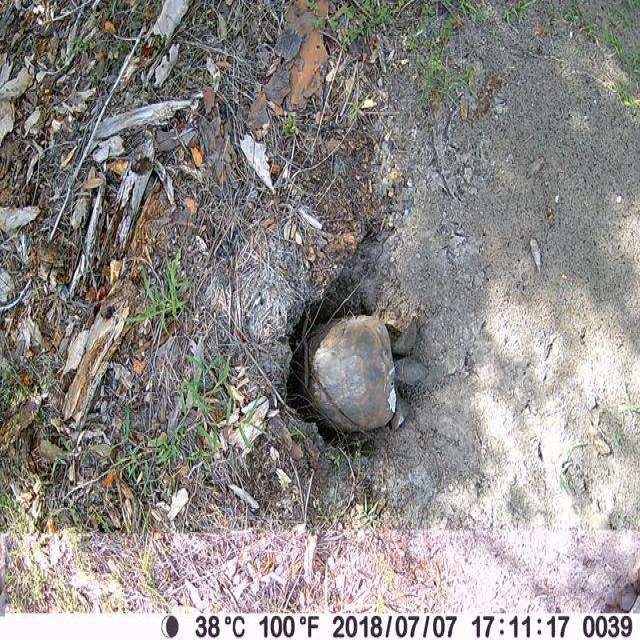tortoise: (284, 306, 429, 434)
